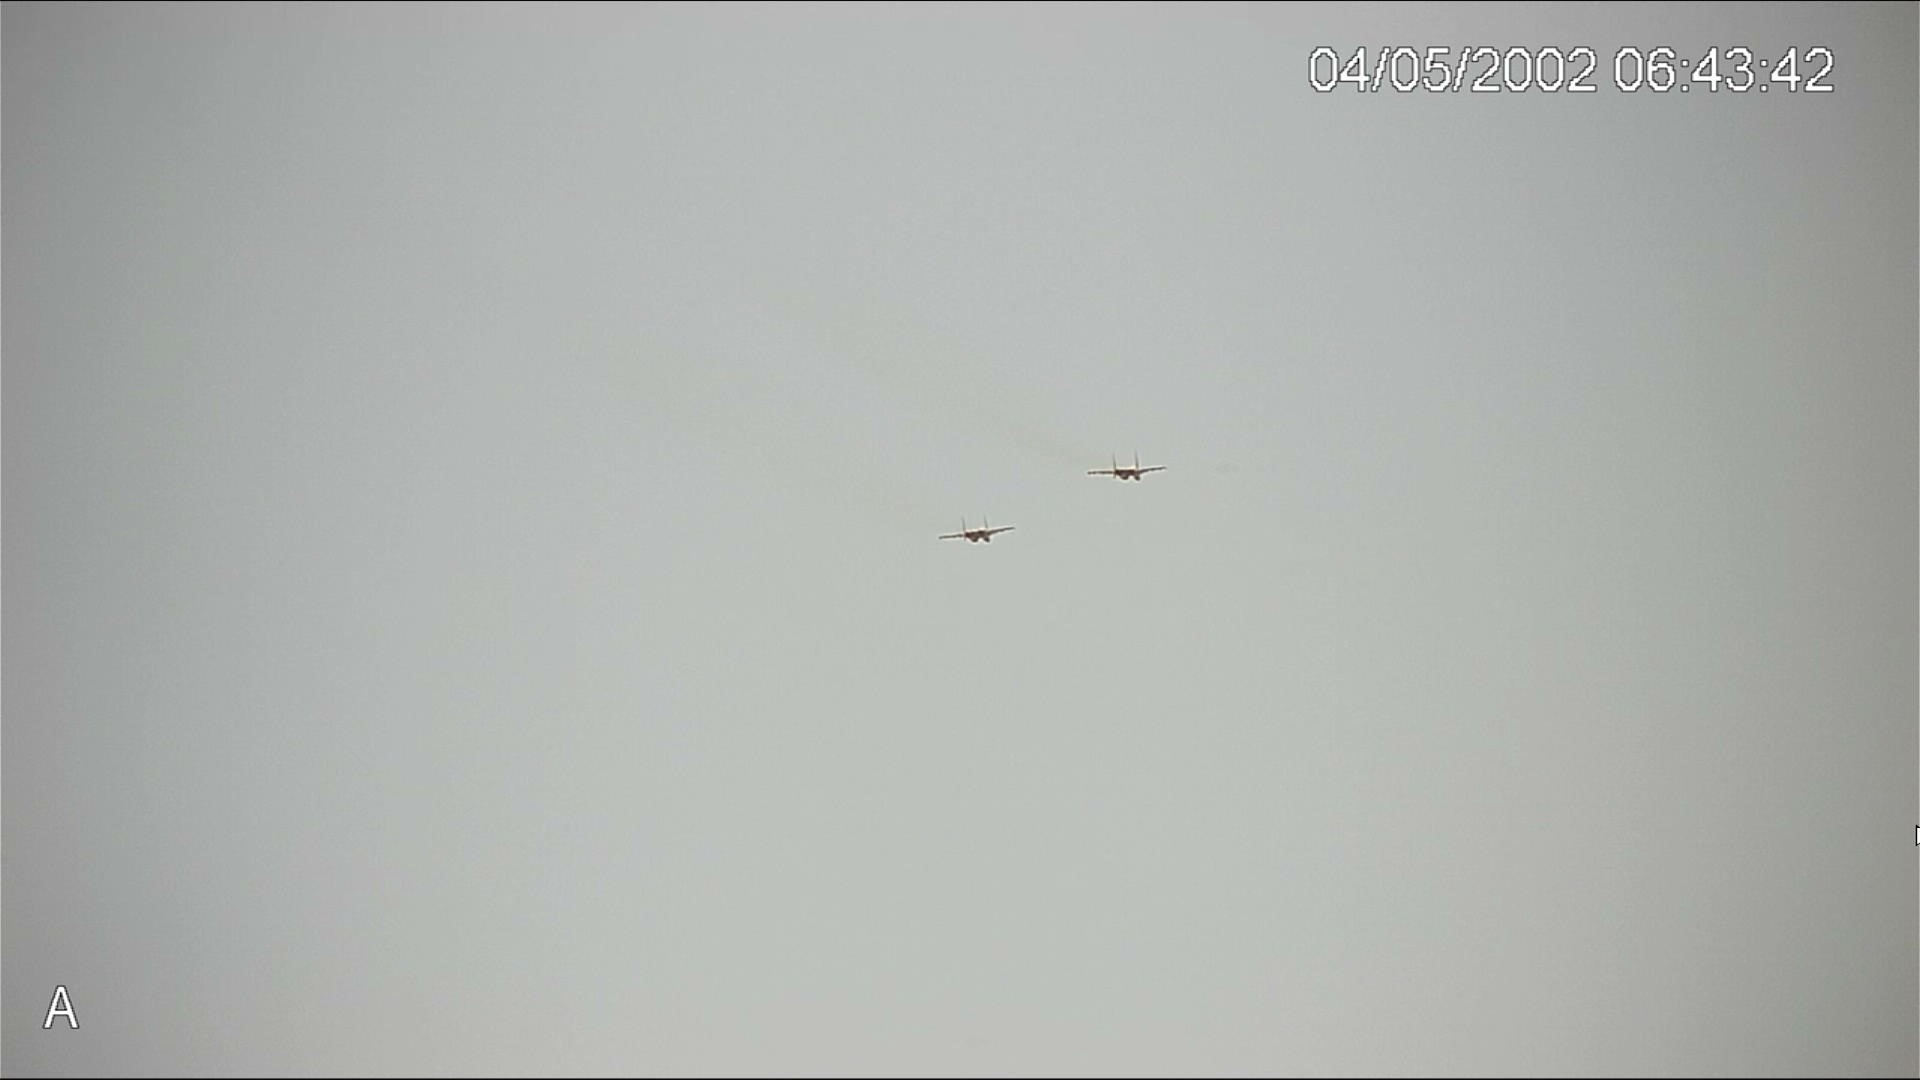SU_30: (1085, 454, 1174, 493), (926, 520, 1018, 545)
